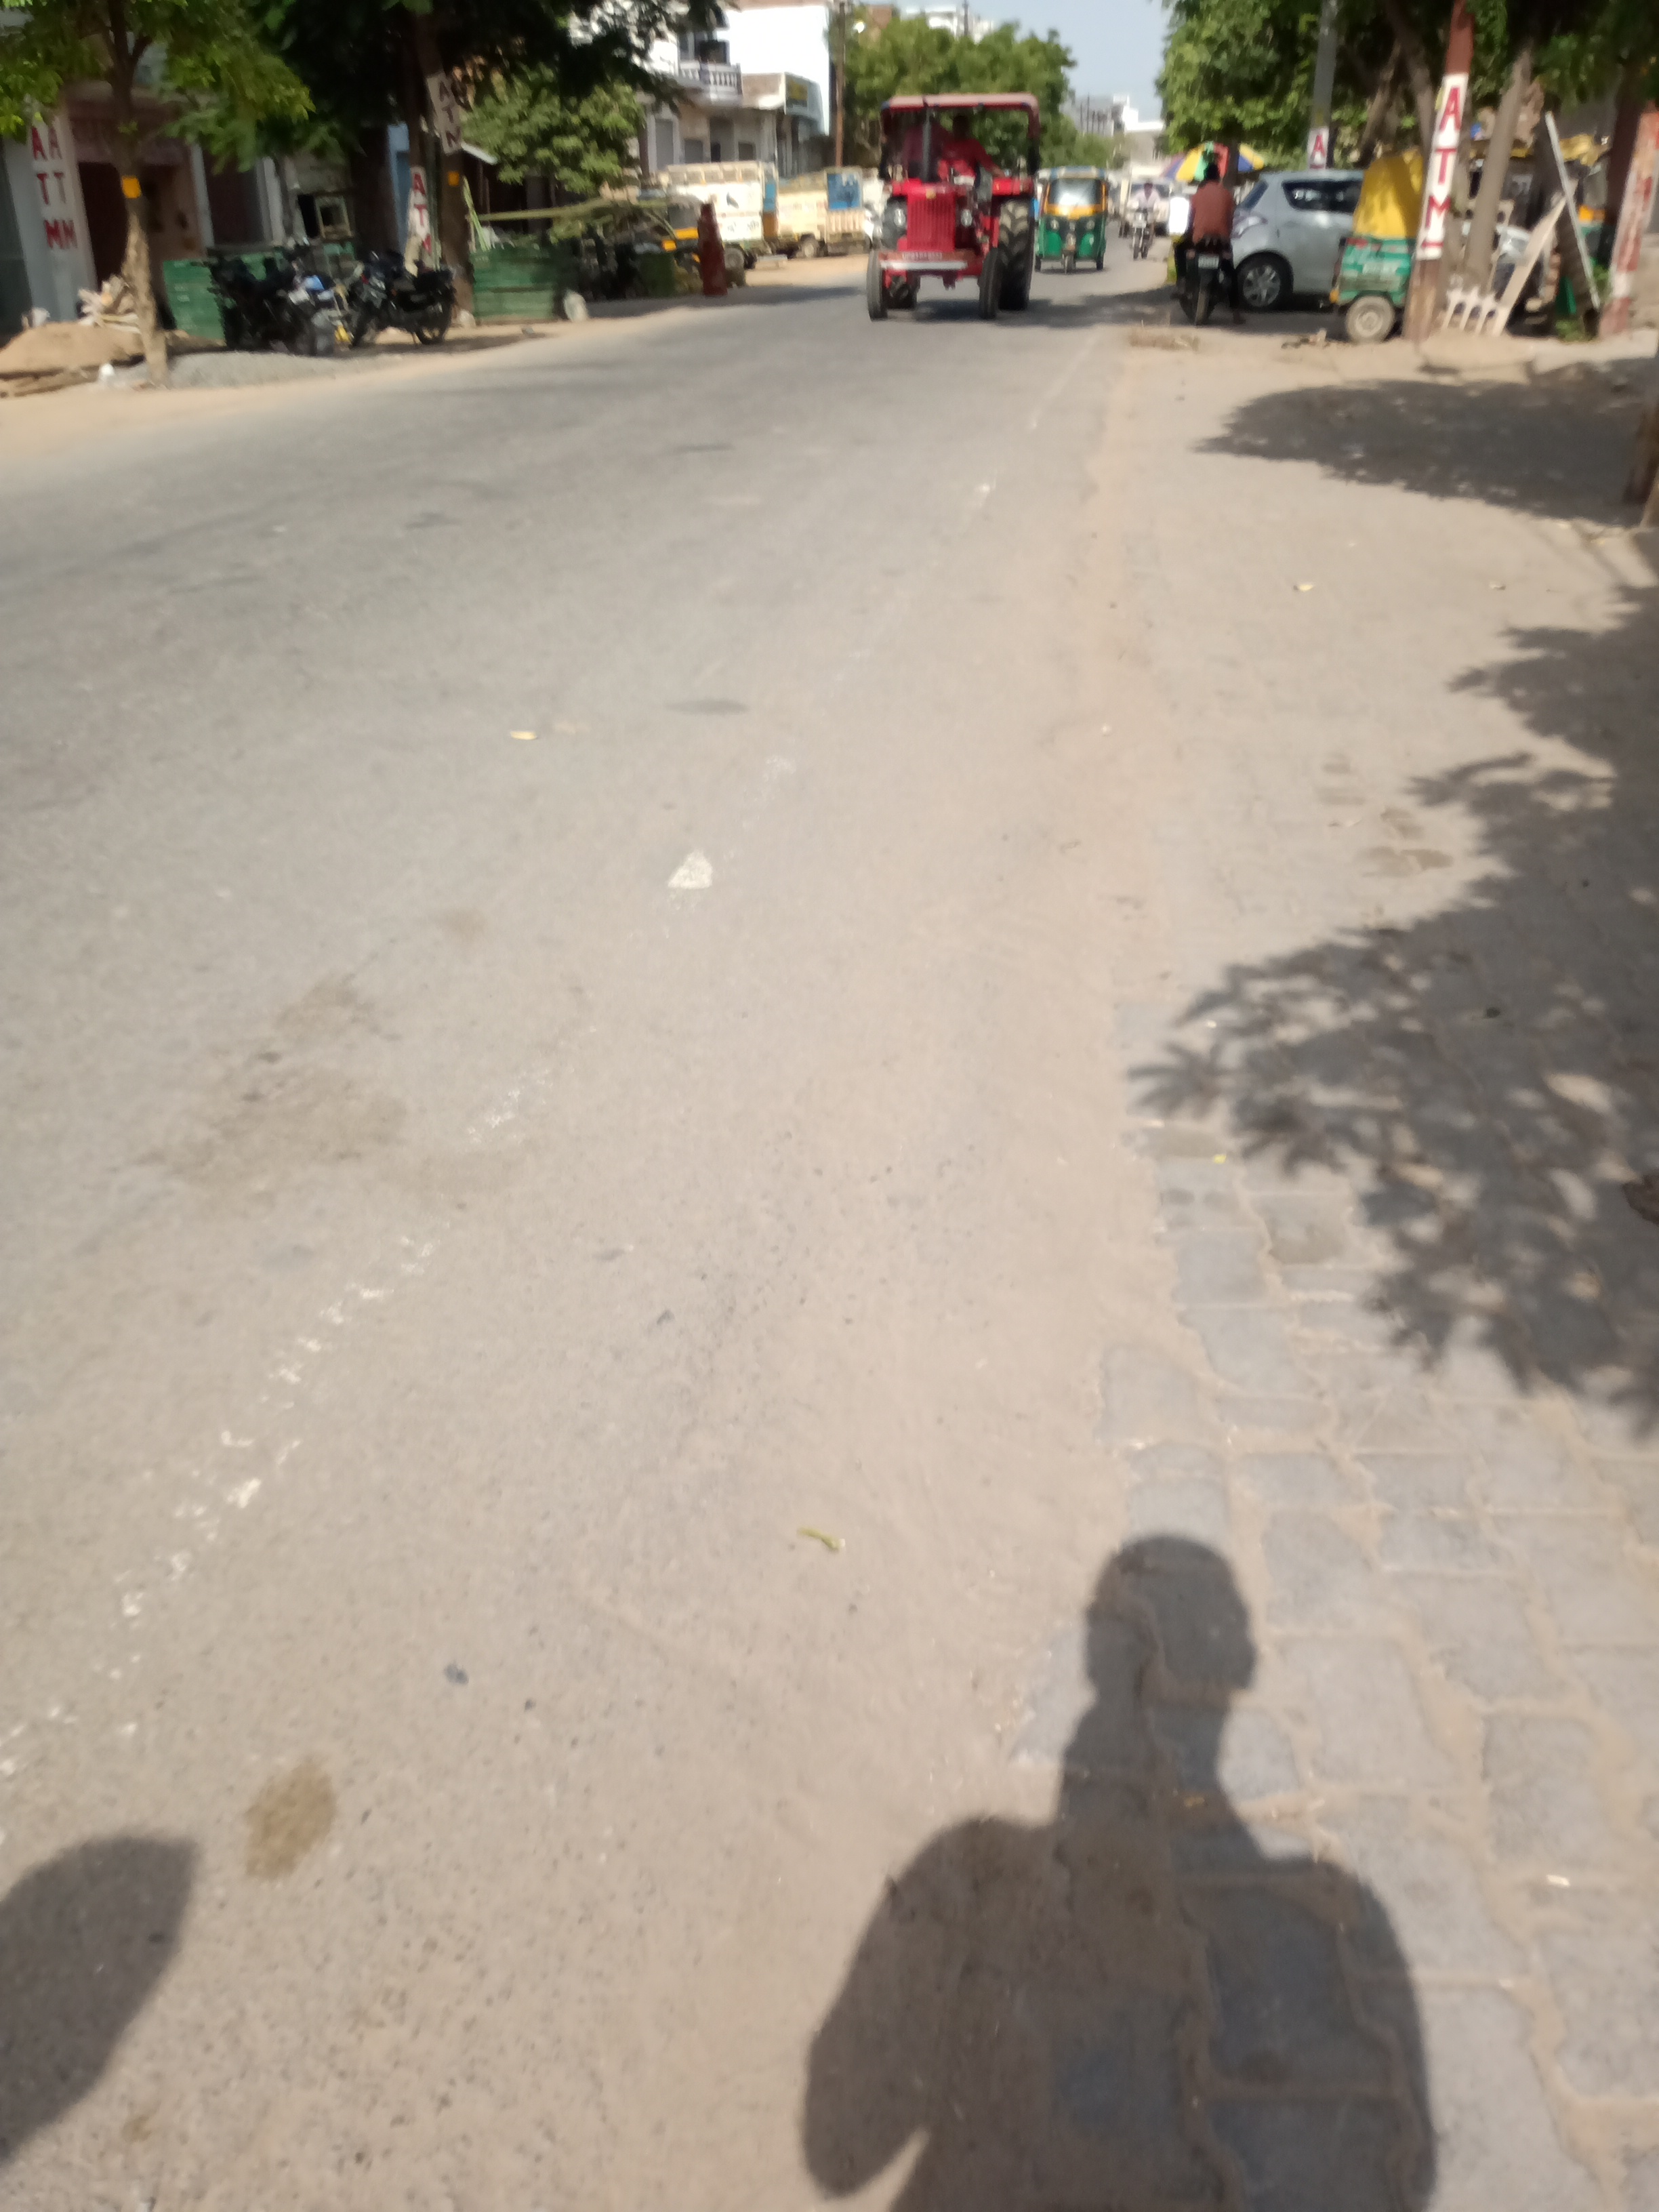tractor: (863, 91, 1049, 320)
